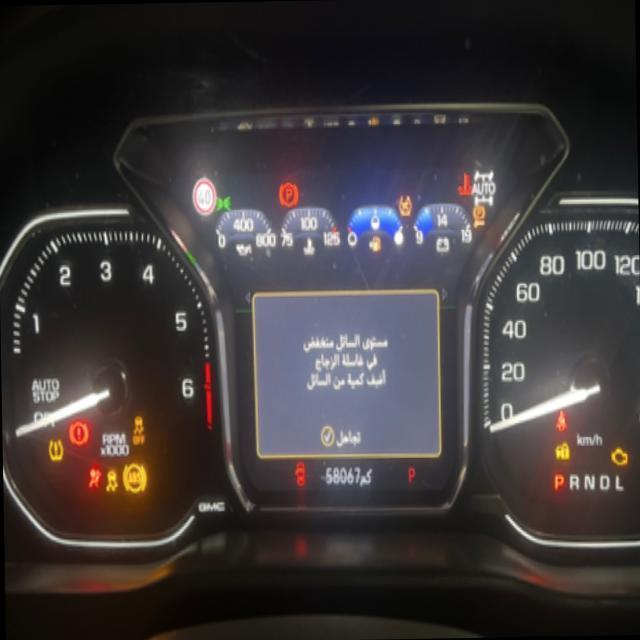Doors: (292, 460, 306, 490)
Engine cooling system: (456, 168, 474, 196)
security: (554, 438, 571, 462)
